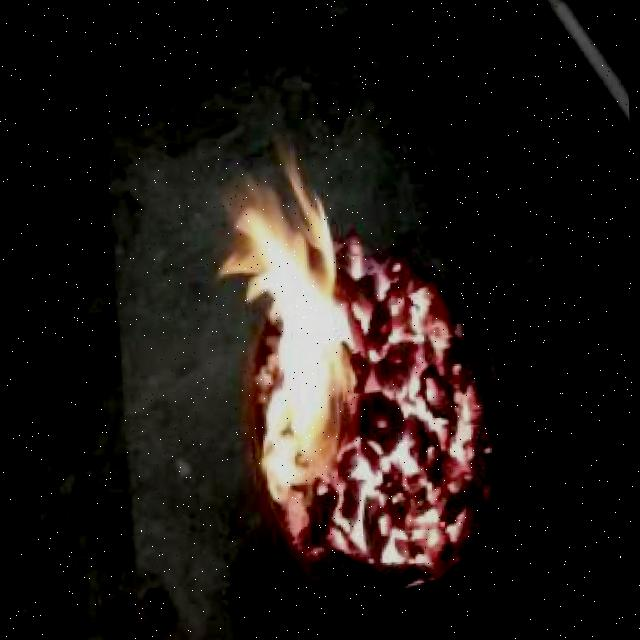fire: (216, 118, 445, 542)
